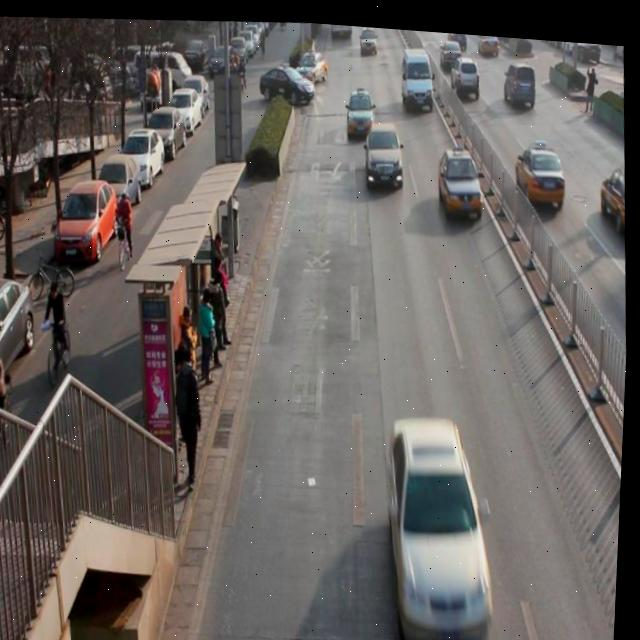car: (381, 405, 511, 640), (438, 138, 489, 220), (514, 133, 570, 200), (364, 116, 408, 188), (601, 154, 630, 234), (501, 54, 543, 107), (344, 82, 377, 129), (452, 47, 482, 92), (302, 41, 329, 83), (438, 33, 462, 63), (479, 28, 503, 53), (361, 21, 378, 50), (447, 26, 468, 44)
truck: (397, 41, 437, 109)
